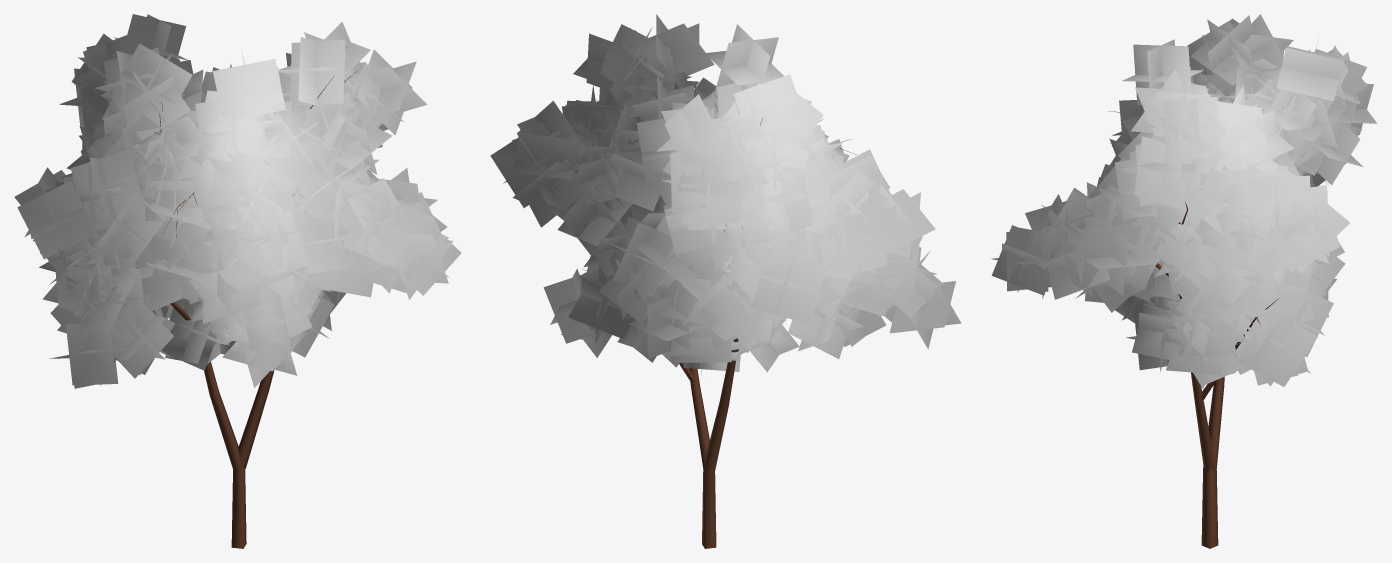
File: T2Tree3.fbx
3 renders of one model, left to right at view 1: azimuth 30°, elevation 25°; view 2: azimuth 150°, elevation 25°; view 3: azimuth 270°, elevation 25°, orthographic. The views are drawn at different scales.
Parts seen in each view (by area): view 1: Leaves_2.3B, Leaves_2.3A, Bark2.3; view 2: Leaves_2.3A, Leaves_2.3B, Bark2.3; view 3: Leaves_2.3A, Leaves_2.3B, Bark2.3.
Part boxes in pixels (bbox=[...]): Leaves_2.3B: bbox=[14, 14, 461, 388]; Leaves_2.3A: bbox=[17, 35, 449, 375]; Bark2.3: bbox=[90, 71, 356, 548]; Leaves_2.3A: bbox=[490, 14, 943, 375]; Leaves_2.3B: bbox=[503, 24, 961, 372]; Bark2.3: bbox=[582, 84, 856, 548]; Leaves_2.3A: bbox=[991, 31, 1377, 388]; Leaves_2.3B: bbox=[991, 14, 1373, 386]; Bark2.3: bbox=[1109, 66, 1279, 548].
Bounding box in the file's own units: 6.06 × 7.65 × 5.41.
